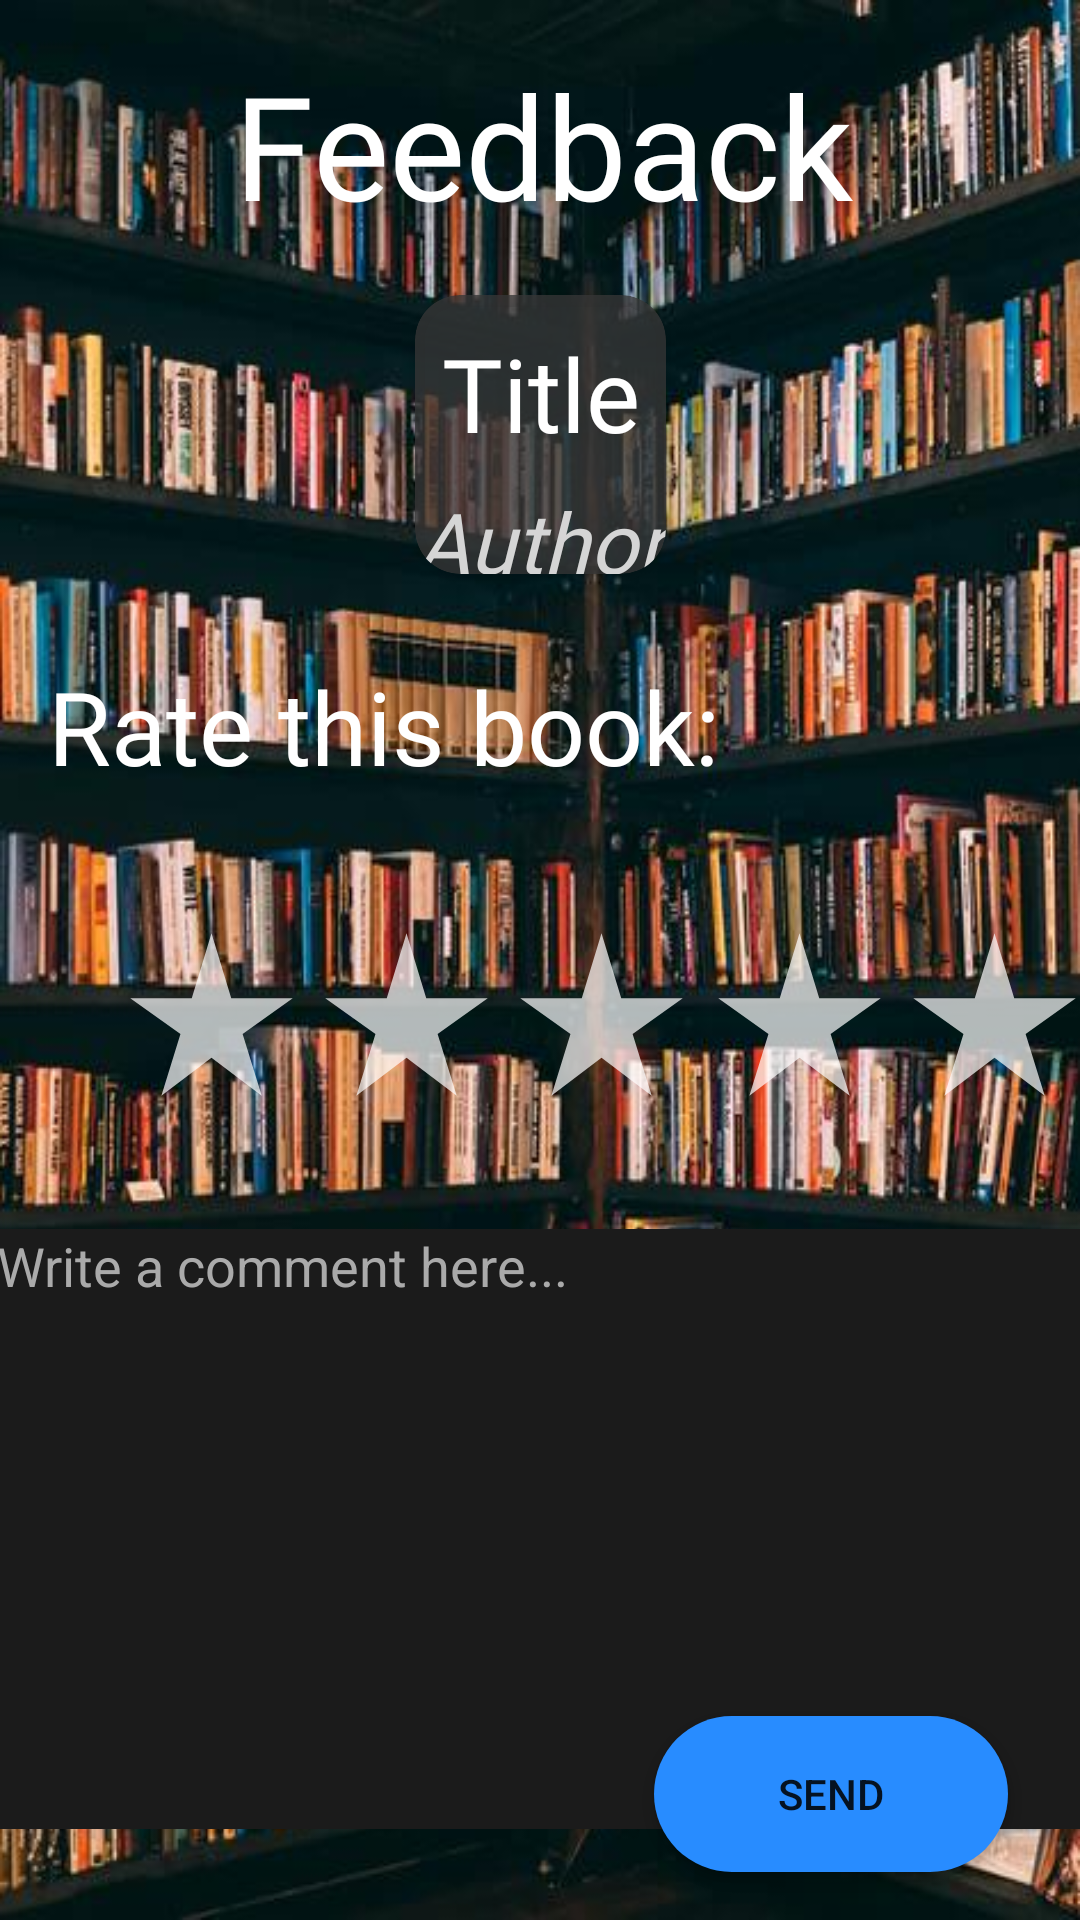

Point at icon controls on the screen. Image size 1080px×1920px, points as [x,y].
star: [211,1014], [406,1014], [601,1014], [799,1014], [988,1014]
